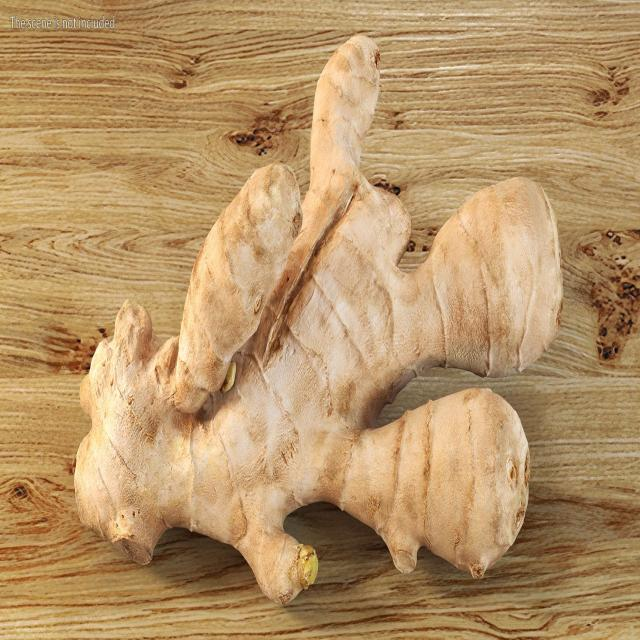ginger-root: (71, 32, 577, 620)
